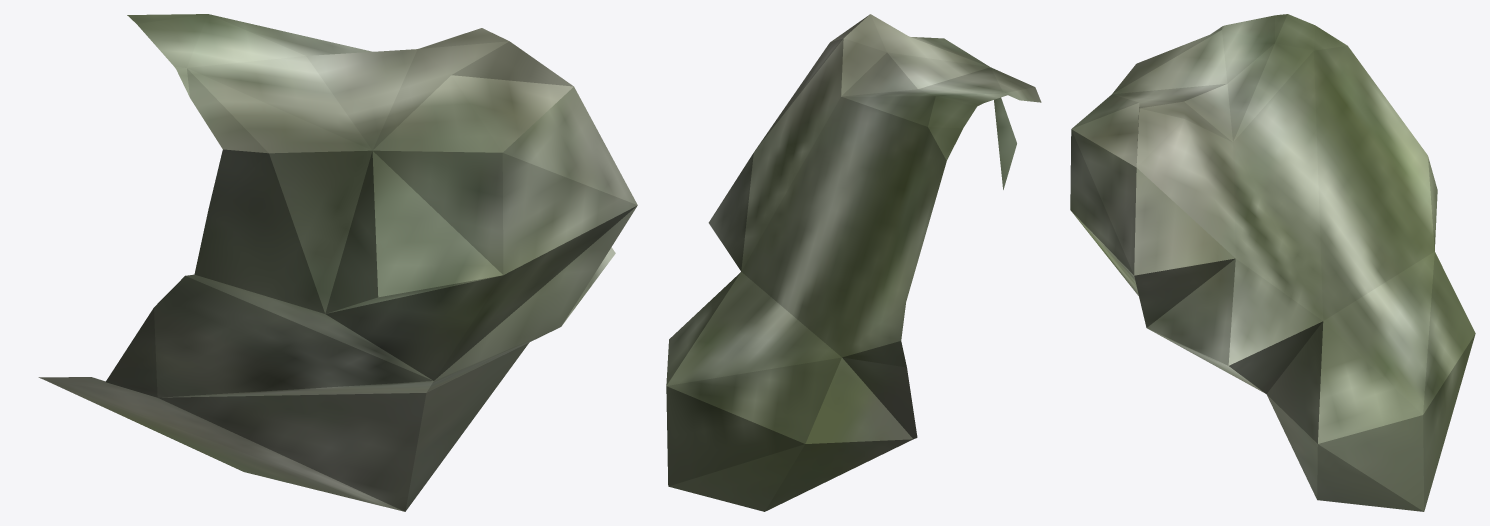
The picture shows the model from 3 angles, left to right: view 1: azimuth 30°, elevation 25°; view 2: azimuth 150°, elevation 25°; view 3: azimuth 270°, elevation 25°; orthographic projection. The views are drawn at different scales.
Bounding box in the file's own units: 0.5896 × 0.7438 × 0.7027.
Materials: 1 (1 with a texture image).
